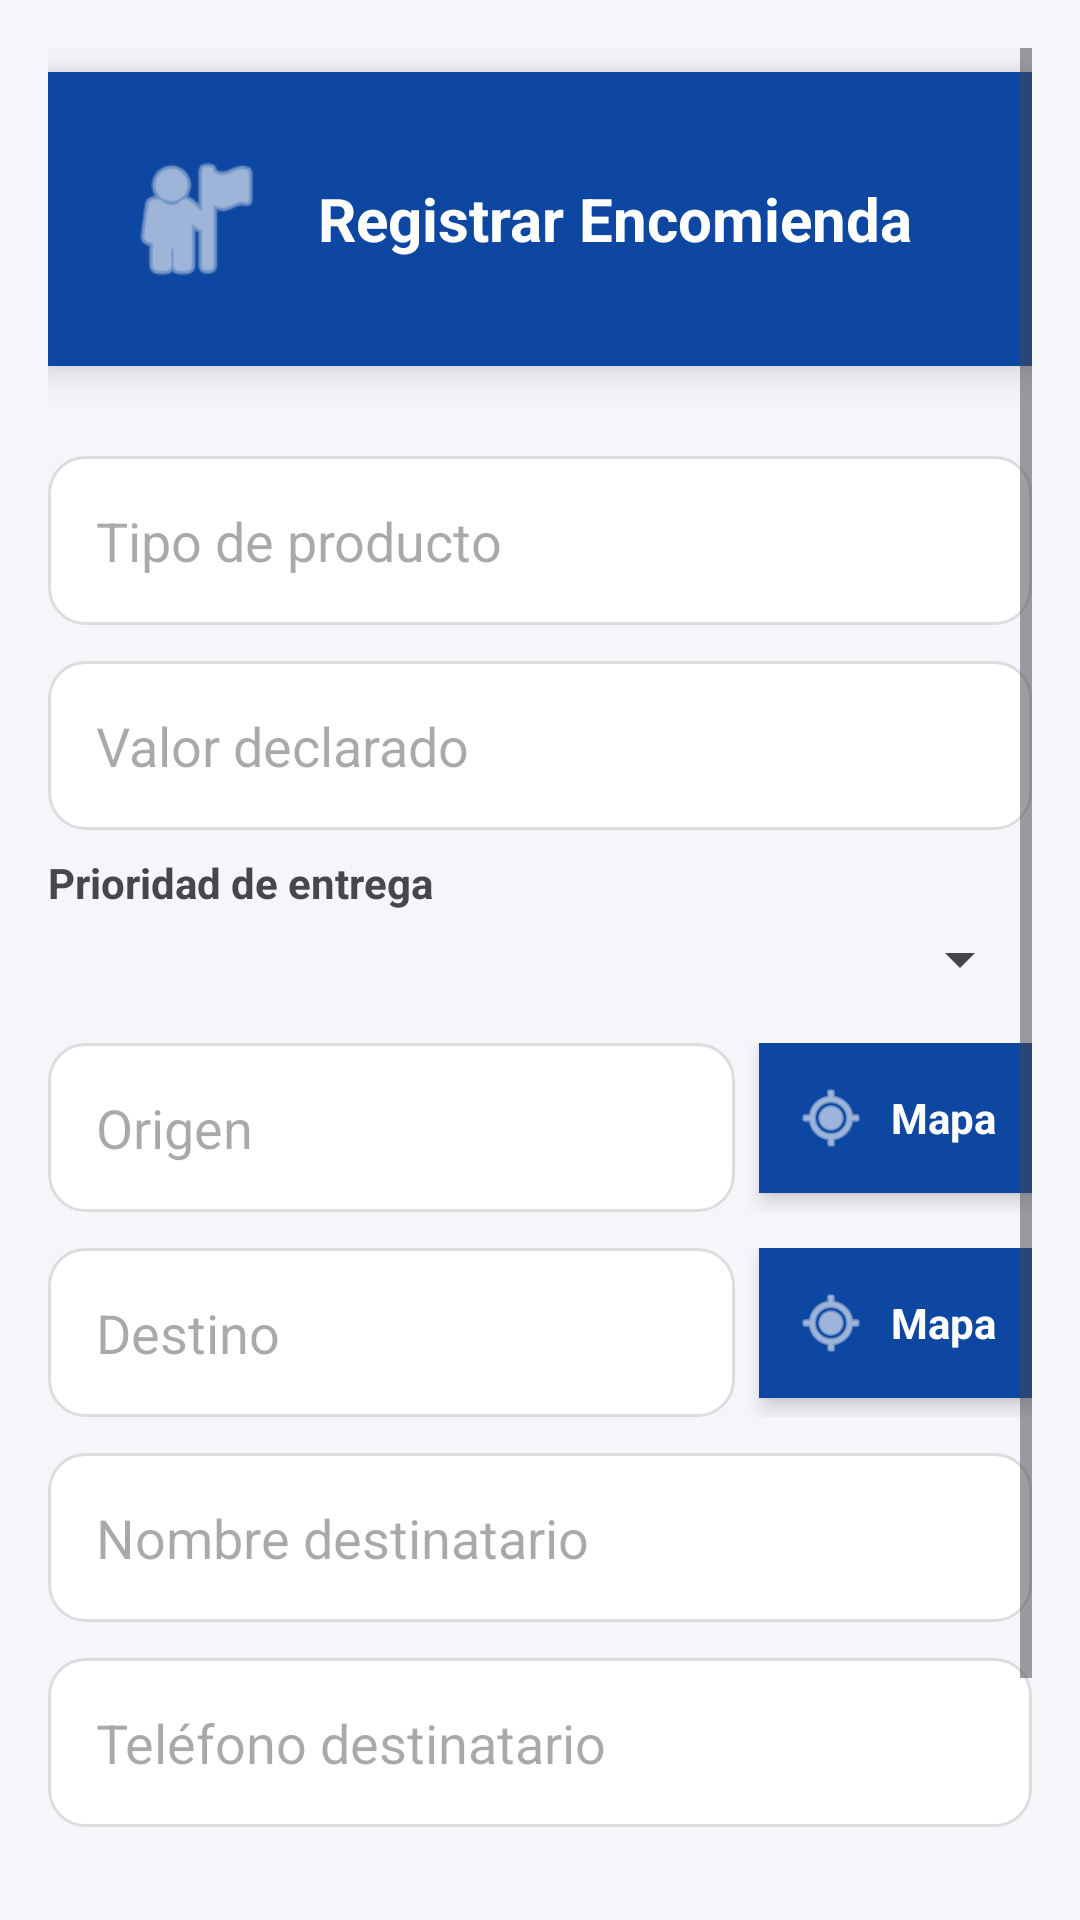

Where to tap for icons on this 1080w x 1920h app screen, as point (x, y):
mylocation: point (831, 1118), point (831, 1323)
myplaces: point (196, 219)
